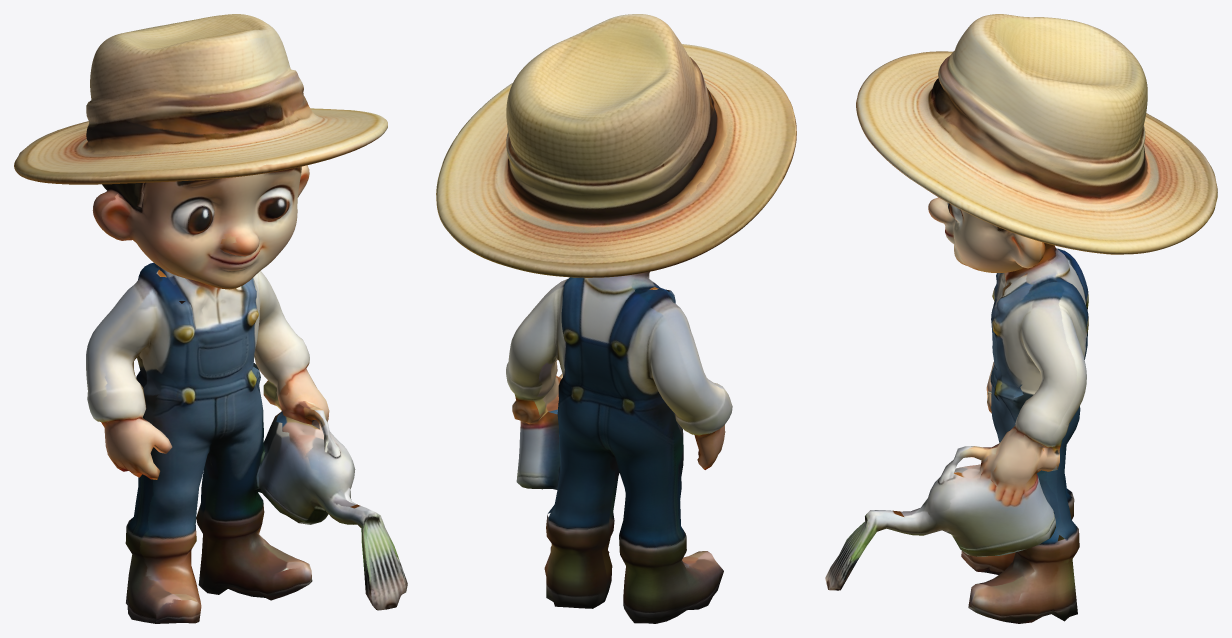
File: pmjrv5b5.glb
3 renders of one model, left to right at view 1: azimuth 30°, elevation 25°; view 2: azimuth 150°, elevation 25°; view 3: azimuth 270°, elevation 25°, orthographic. The views are drawn at different scales.
Visible parts, largest first — view 1: Boy Gardener; view 2: Boy Gardener; view 3: Boy Gardener.
Part boxes in pixels (x1=…): Boy Gardener: x1=14, y1=14, x2=407, y2=623; Boy Gardener: x1=436, y1=14, x2=796, y2=623; Boy Gardener: x1=825, y1=14, x2=1217, y2=623.
Bounding box in the file's own units: 0.6383 × 1.1 × 0.6885.
1 material, 1 textured.
